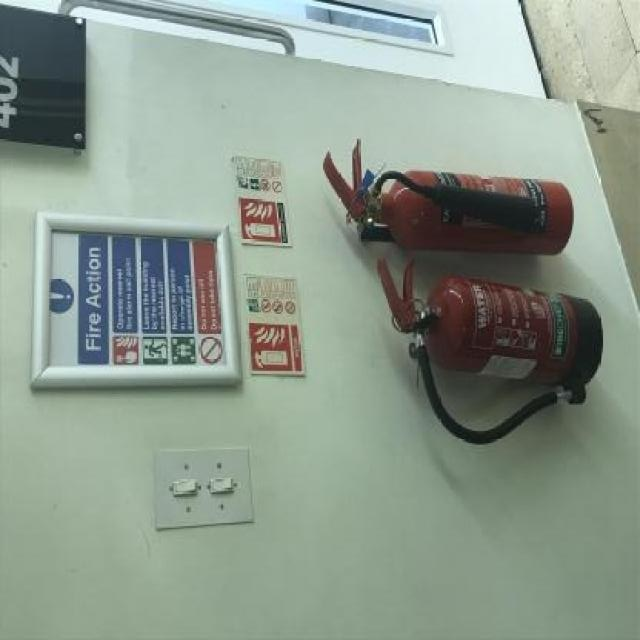fire extinguisher: (378, 257, 605, 446), (321, 142, 575, 258)
